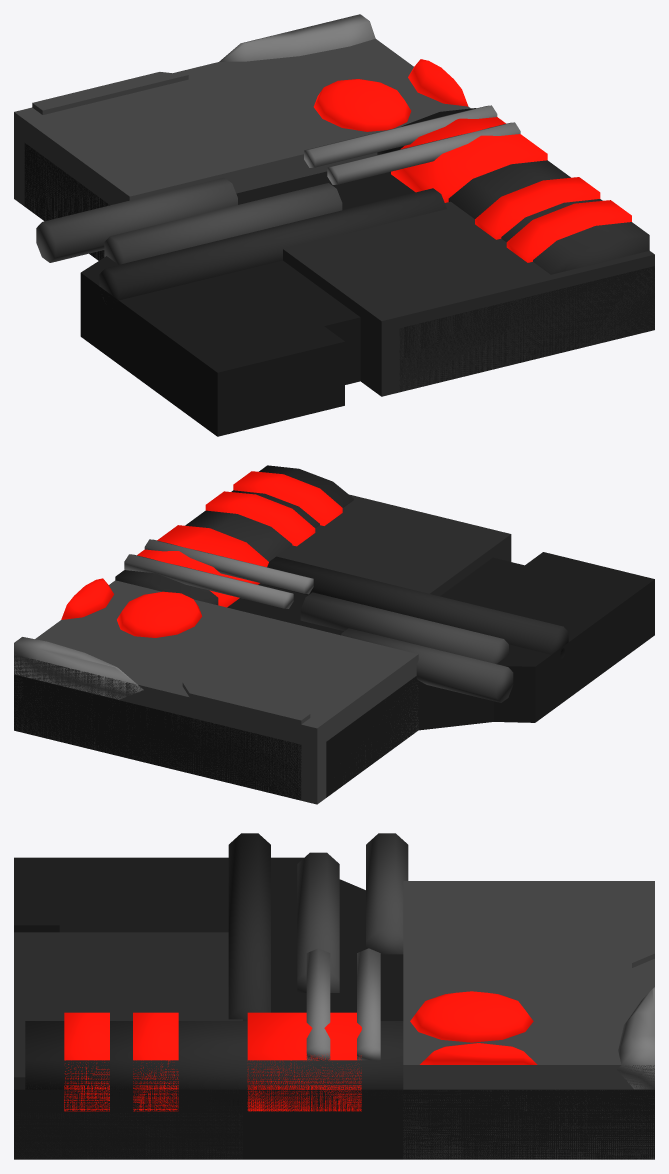
File: newshr-235.glb
3 views of the same model, one above another, from view 1: azimuth 30°, elevation 25°; view 2: azimuth 150°, elevation 25°; view 3: azimuth 270°, elevation 25° (orthographic). The views are drawn at different scales.
Visible parts, largest first — view 1: newshr-235; view 2: newshr-235; view 3: newshr-235.
Boxes of the visible parts, left/top/right/bottom form: newshr-235: left=14, top=14, right=654, bottom=436; newshr-235: left=14, top=465, right=654, bottom=804; newshr-235: left=14, top=833, right=654, bottom=1159.
Bounding box in the file's own units: 2 × 0.47 × 2.33.
